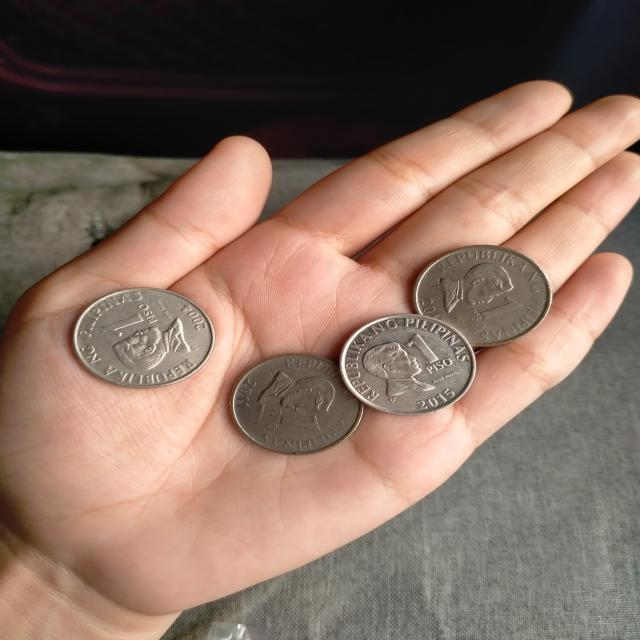1_Old_Front: (391, 327, 468, 379), (92, 304, 158, 342), (459, 290, 523, 328), (260, 402, 324, 436)
